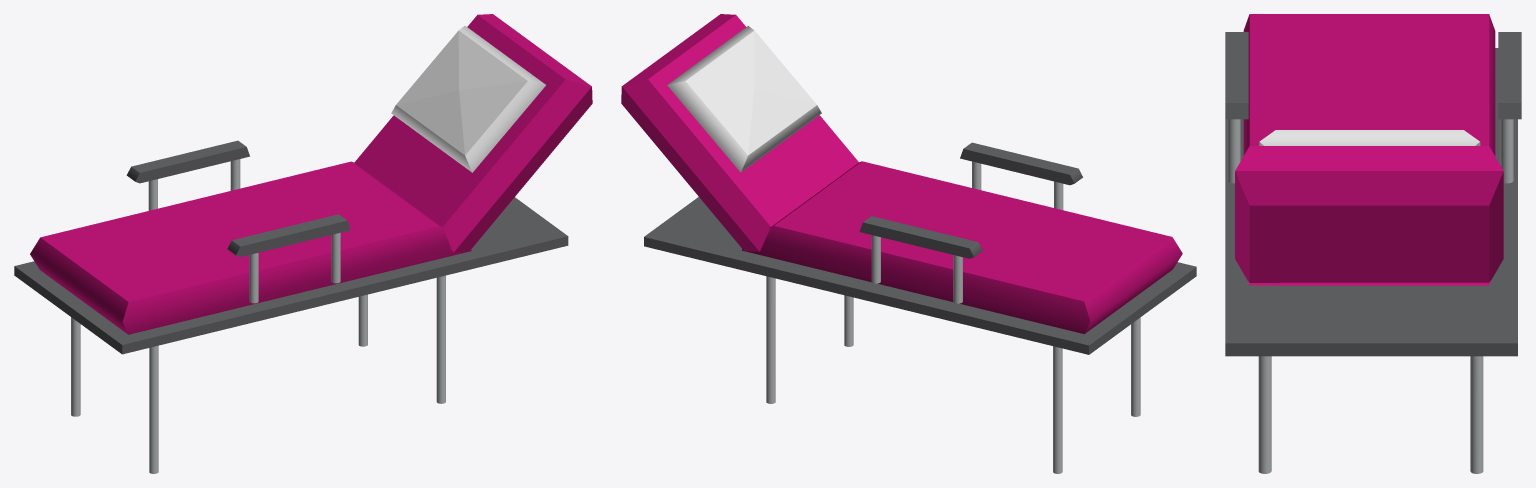
The model's file is medical bay cot.fbx.
3 views of the same model, side by side, from view 1: azimuth 30°, elevation 25°; view 2: azimuth 150°, elevation 25°; view 3: azimuth 270°, elevation 25° (orthographic). The views are drawn at different scales.
Visible parts, largest first — view 1: pCube1, pCube2, pCube3, pCube4, pCube6, pCube5, pCylinder5, pCylinder7, pCylinder6; view 2: pCube1, pCube2, pCube3, pCube4, pCube5, pCube6, pCylinder6, pCylinder8, pCylinder5; view 3: pCube2, pCube1, pCube3, pCube4, pCube5, pCube6, pCylinder7, pCylinder8, pCylinder2, pCylinder4.
Boxes of the visible parts, x1,y1,x2,y2 form: pCube1: (30,161,471,334); pCube2: (354,14,592,252); pCube3: (14,197,568,354); pCube4: (391,26,545,172); pCube6: (227,214,350,256); pCube5: (126,140,249,183); pCylinder5: (149,345,158,473); pCylinder7: (436,275,445,403); pCylinder6: (71,317,80,416); pCube1: (742,161,1182,333); pCube2: (621,14,859,251); pCube3: (644,197,1196,354); pCube4: (667,25,821,172); pCube5: (859,216,982,258); pCube6: (960,142,1082,185); pCylinder6: (1053,346,1062,473); pCylinder8: (766,276,775,403); pCylinder5: (1131,317,1140,416); pCube2: (1235,146,1503,282); pCube1: (1243,14,1495,285); pCube3: (1225,48,1517,356); pCube4: (1259,130,1480,145); pCube5: (1498,32,1521,119); pCube6: (1225,32,1248,119); pCylinder7: (1258,356,1271,473); pCylinder8: (1470,356,1483,473); pCylinder2: (1500,119,1513,183); pCylinder4: (1227,119,1240,183).
Bounding box in the file's own units: 9.4 × 5.58 × 3.71.
